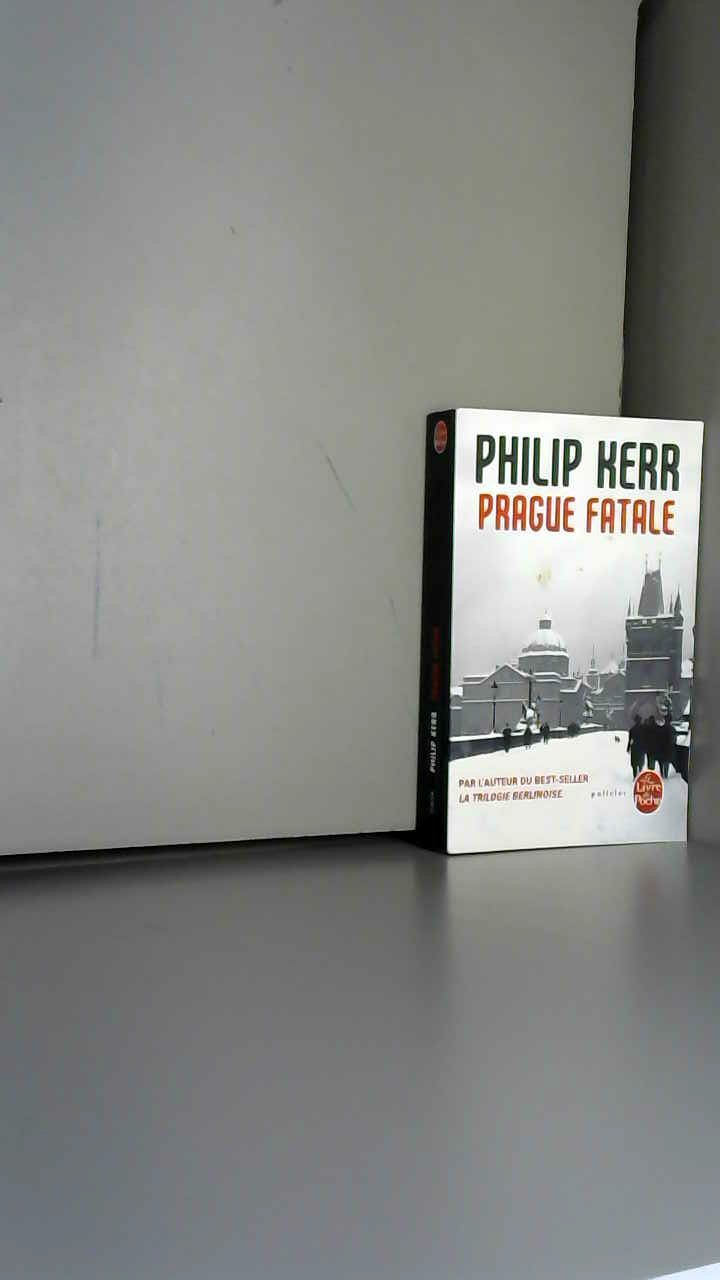book: (390, 380, 720, 939)
